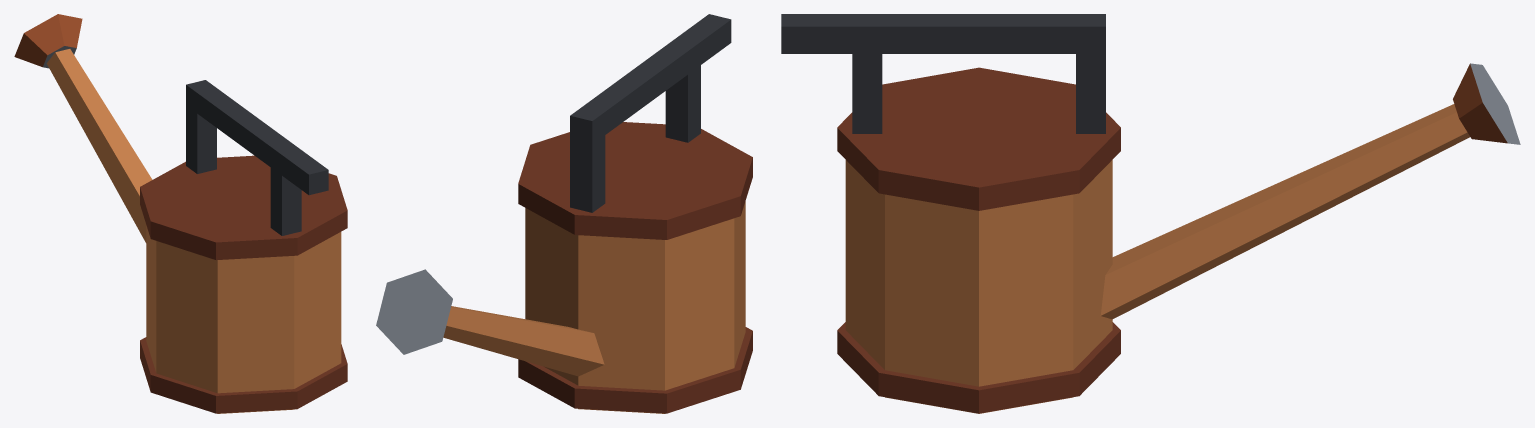
The model's file is prop_watering_can.glb.
3 views of the same model, side by side, from view 1: azimuth 30°, elevation 25°; view 2: azimuth 150°, elevation 25°; view 3: azimuth 270°, elevation 25° (orthographic). The views are drawn at different scales.
Visible parts, largest first — view 1: prop_watering_can; view 2: prop_watering_can; view 3: prop_watering_can.
Part boxes in pixels (bbox=[...]): prop_watering_can: bbox=[14, 14, 347, 413]; prop_watering_can: bbox=[376, 14, 752, 413]; prop_watering_can: bbox=[781, 14, 1520, 413].
Bounding box in the file's own units: 0.066 × 0.0865 × 0.1719.
Materials: 1 (1 with a texture image).
